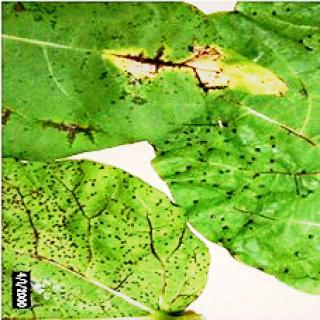blight: (108, 37, 236, 104)
